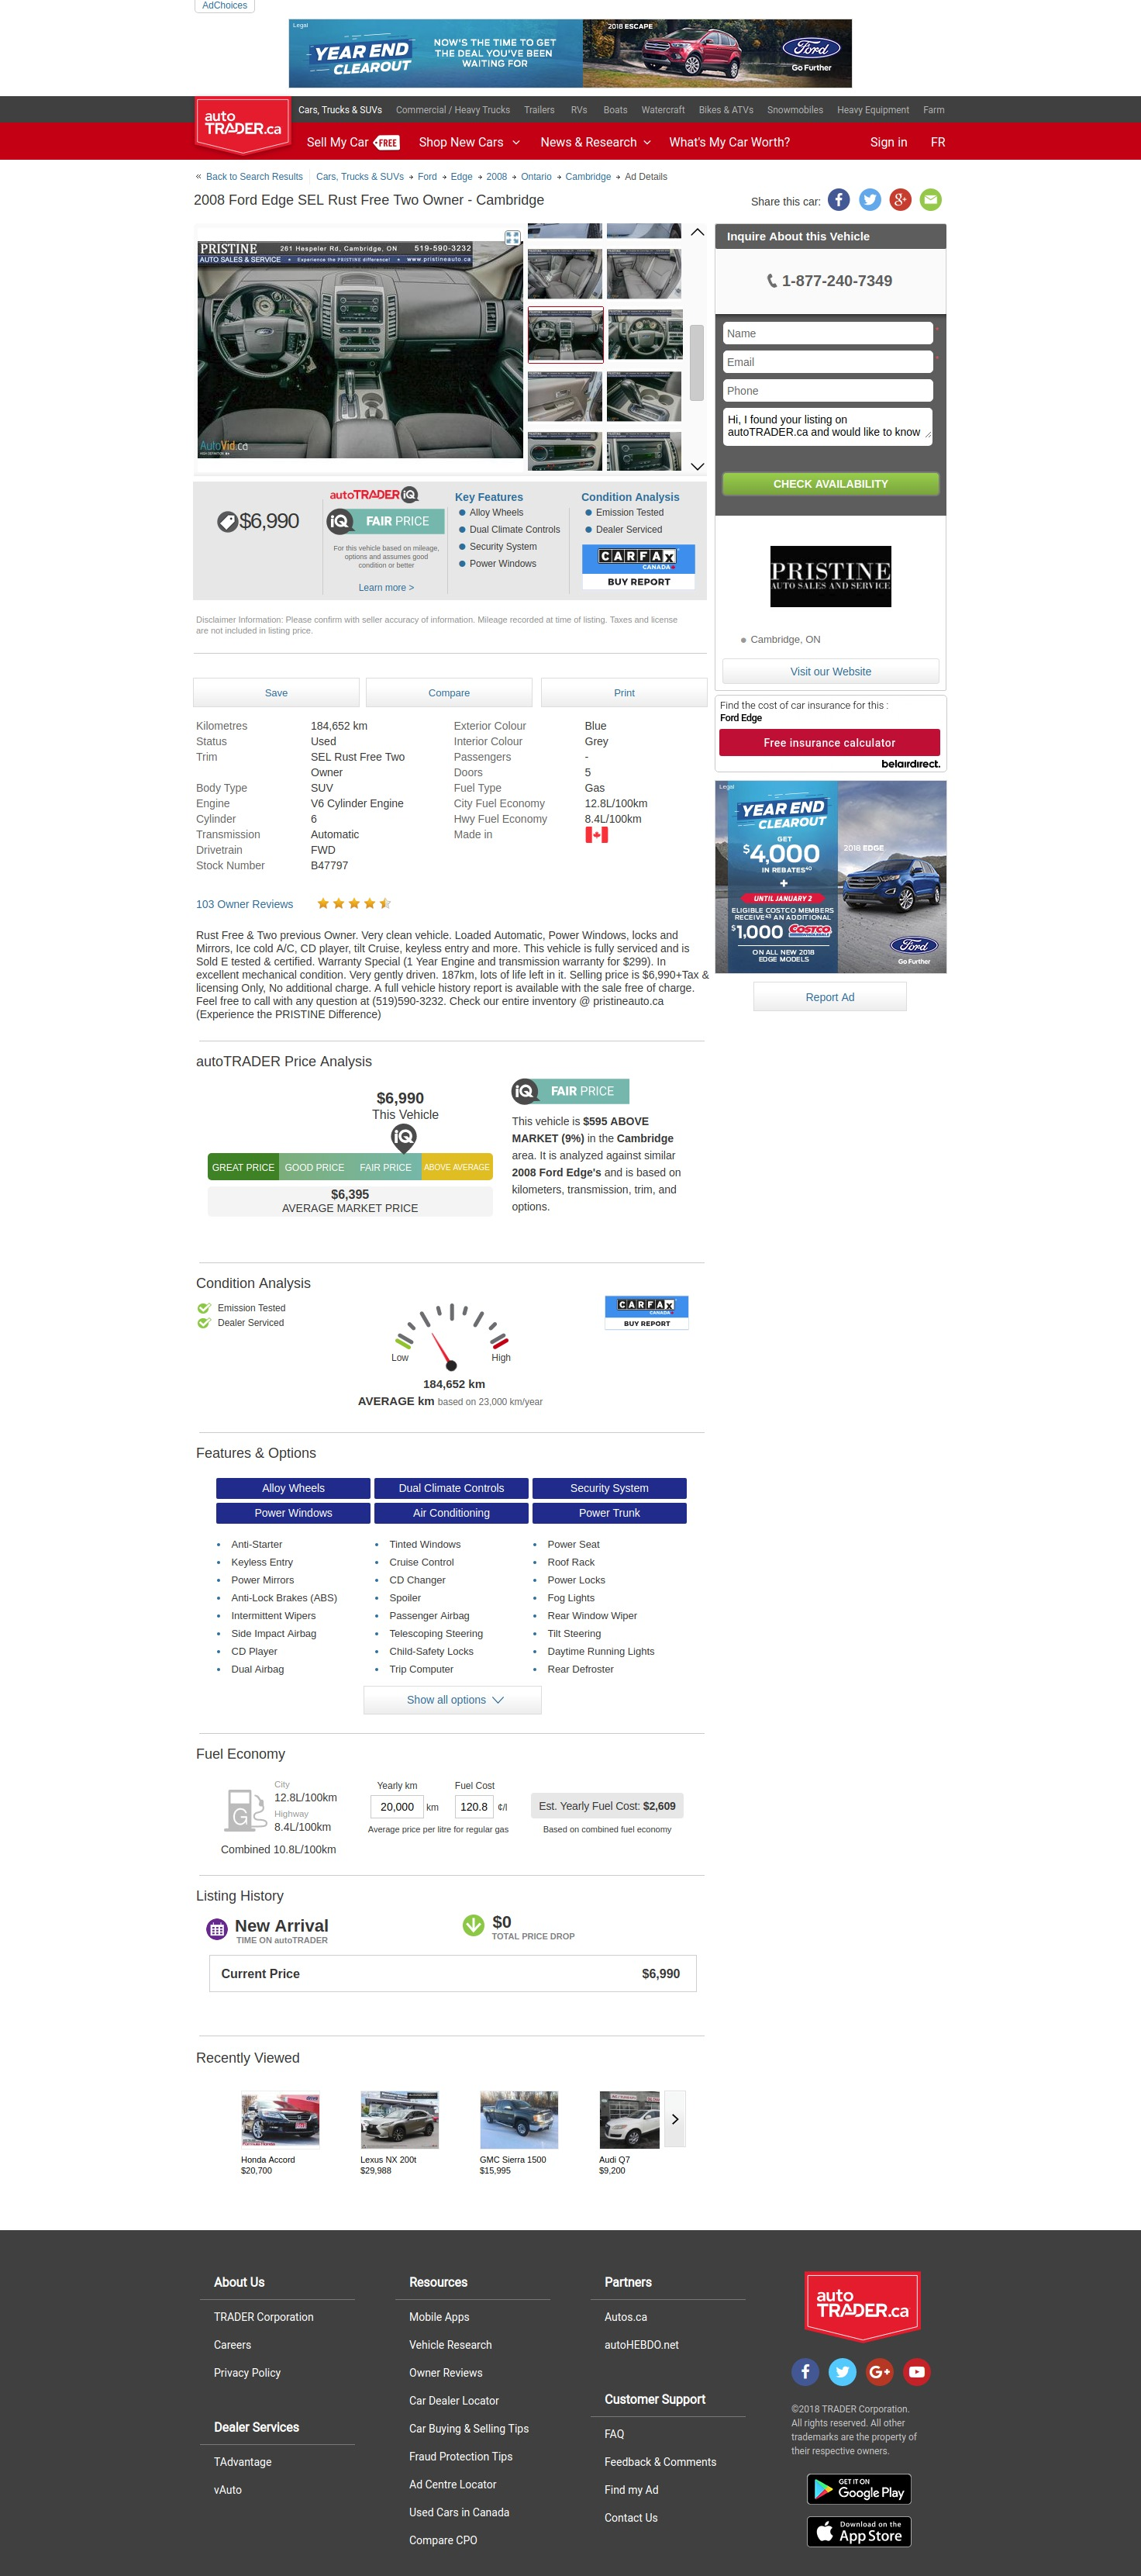car: (691, 463, 706, 472)
